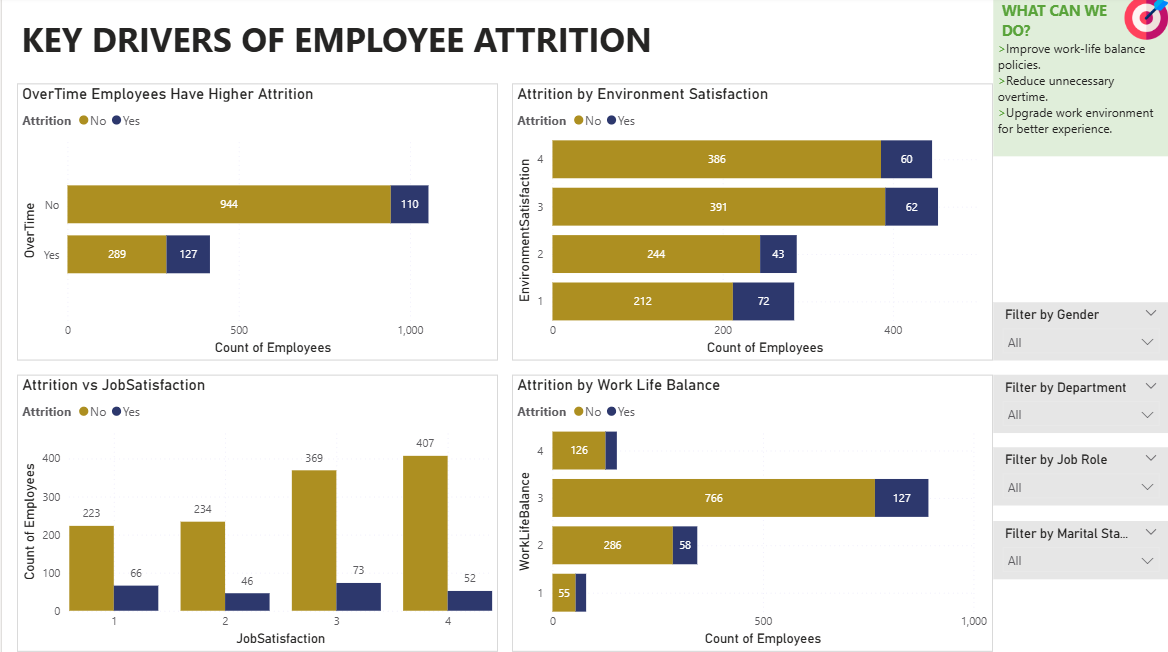

The dashboard page shown, as its layout file describes it:
{"tool":"powerbi","page":{"name":"Page 2","canvas":[1280,720],"ordinal":1},"visuals":[{"type":"barChart","title":"OverTime Employees Have Higher Attrition","fields":{"Series":["HR-Employee-Attrition.Attrition"],"Category":["HR-Employee-Attrition.OverTime"],"Y":["CountNonNull(HR-Employee-Attrition.EmployeeNumber)"]},"box":[16,96,528,304],"z":0},{"type":"clusteredColumnChart","title":"Attrition vs JobSatisfaction","fields":{"Category":["HR-Employee-Attrition.JobSatisfaction"],"Y":["CountNonNull(HR-Employee-Attrition.EmployeeNumber)"],"Series":["HR-Employee-Attrition.Attrition"]},"box":[16,416,528,304],"z":1000},{"type":"barChart","title":"Attrition by Work Life Balance","fields":{"Category":["HR-Employee-Attrition.WorkLifeBalance"],"Y":["CountNonNull(HR-Employee-Attrition.EmployeeNumber)"],"Series":["HR-Employee-Attrition.Attrition"]},"box":[560,416,528,304],"z":2000},{"type":"barChart","title":"Attrition by Environment Satisfaction","fields":{"Category":["HR-Employee-Attrition.EnvironmentSatisfaction"],"Y":["CountNonNull(HR-Employee-Attrition.EmployeeNumber)"],"Series":["HR-Employee-Attrition.Attrition"]},"box":[560,96,528,304],"z":3000},{"type":"textbox","box":[16,16,720,64],"z":4000},{"type":"textbox","box":[1088,0,192,176],"z":5000},{"type":"image","box":[1232,0,48,48],"z":6000},{"type":"slicer","fields":{"Values":["HR-Employee-Attrition.Gender"]},"box":[1088,336,192,64],"z":7000},{"type":"slicer","fields":{"Values":["HR-Employee-Attrition.Department"]},"box":[1088,416,192,64],"z":8000},{"type":"slicer","title":"Filter by Job Role","fields":{"Values":["HR-Employee-Attrition.JobRole"]},"box":[1088,496,192,64],"z":9000},{"type":"slicer","fields":{"Values":["HR-Employee-Attrition.MaritalStatus"]},"box":[1088,576,192,64],"z":10000}]}

Visuals, with their boxes in screenshot pixels (x1, y1, x2, y2), scaled from the page's 1280x720 canvas onto the 1168x652 screenshot:
"OverTime Employees Have Higher Attrition" barChart: 15/87/496/362
"Attrition vs JobSatisfaction" clusteredColumnChart: 15/377/496/651
"Attrition by Work Life Balance" barChart: 511/377/993/651
"Attrition by Environment Satisfaction" barChart: 511/87/993/362
textbox: 15/14/672/72
textbox: 993/0/1167/159
image: 1124/0/1167/43
slicer - HR-Employee-Attrition.Gender: 993/304/1167/362
slicer - HR-Employee-Attrition.Department: 993/377/1167/435
"Filter by Job Role" slicer: 993/449/1167/507
slicer - HR-Employee-Attrition.MaritalStatus: 993/522/1167/580
